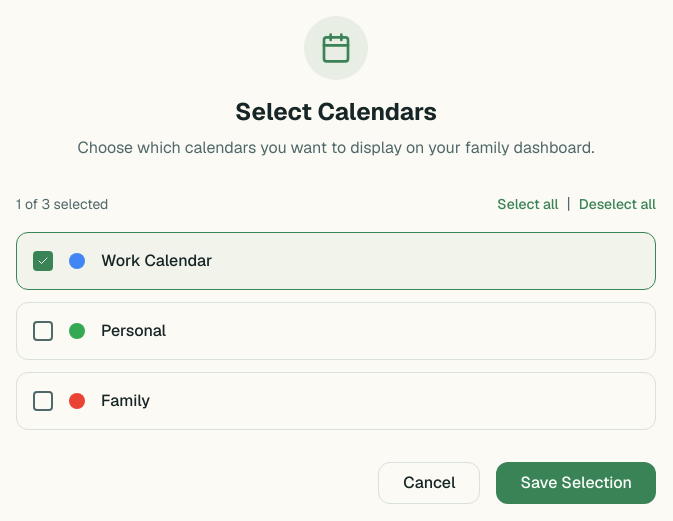
Test case: CalendarConnectPage › handles select all
The width and height of the screenshot is (673, 521).
Click the button "Select all": (528, 204) [497,192,558,216]
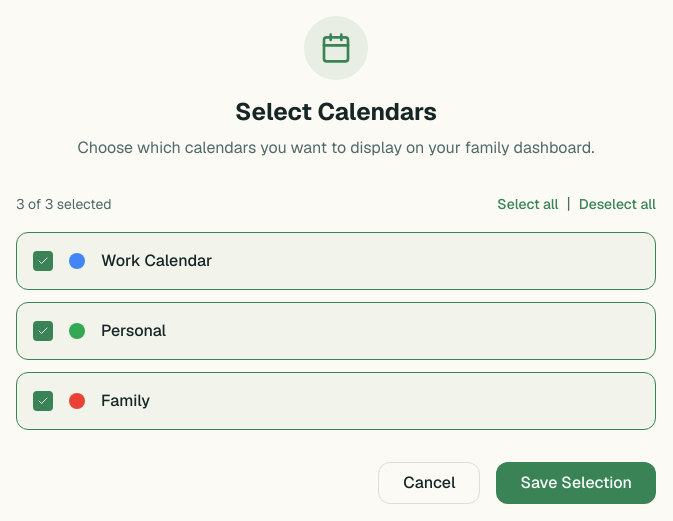
Result: the text "3 of 3 selected" is shown at [16,194,112,214]
